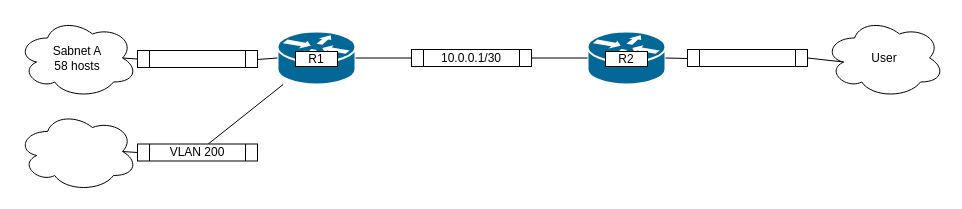
This 962x209 diagram has some shape labels left out. The shapes that lost their labels are listed below. From the top down, each one's centre as x and y in pixels, then its label:
At (197,59): "VLAN 100".
At (747,57): "VLAN 1".
At (77,151): "Sabnet B 28 hosts".
